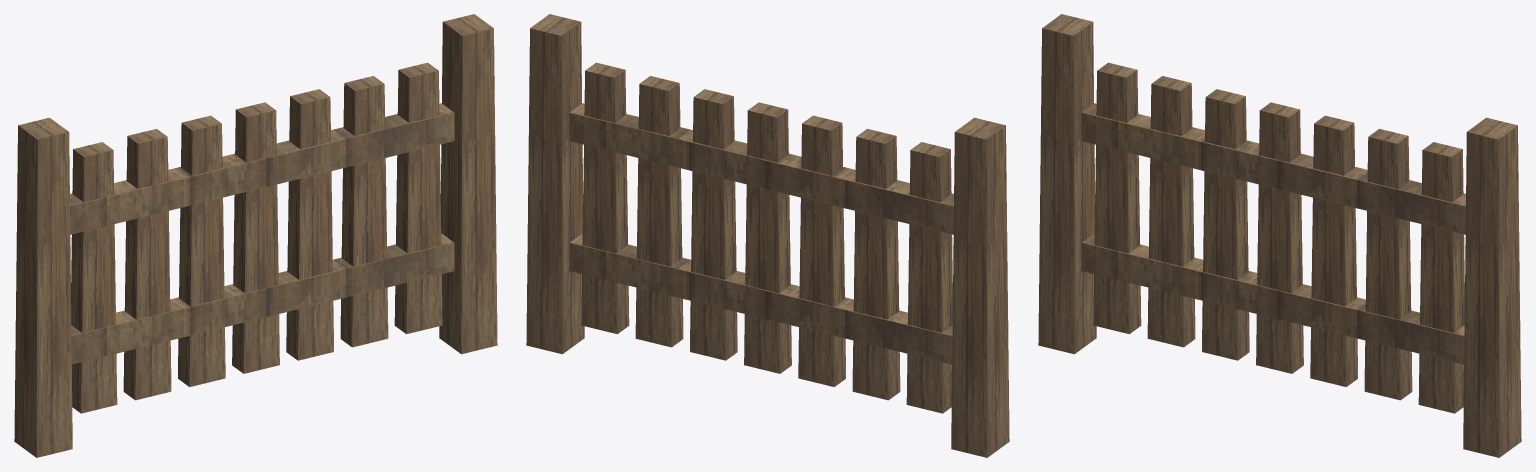
File: rural_fence.glb
3 renders of one model, left to right at view 1: azimuth 30°, elevation 25°; view 2: azimuth 150°, elevation 25°; view 3: azimuth 330°, elevation 25°, orthographic.
Parts seen in each view (by area): view 1: root; view 2: root; view 3: root.
Boxes of the visible parts, x1,y1,x2,y2 form: root: (14,14,497,457); root: (526,14,1009,457); root: (1038,14,1521,457).
Size of the model in its own units: 2.04 by 1.34 by 0.17.
Materials: 1 (1 with a texture image).
